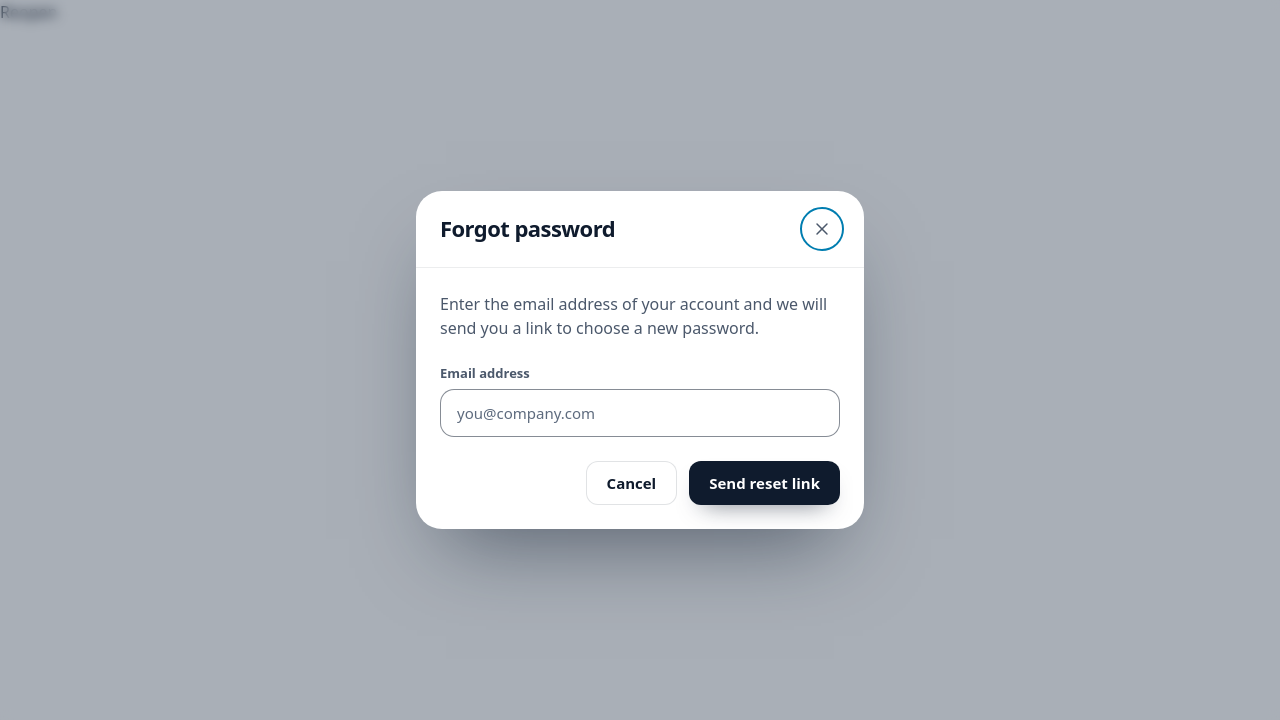
ForgotPasswordModal › refuses something that is not an email, in its own words
The width and height of the screenshot is (1280, 720).
Type "not-an-email" into the field labelled "Email address". click: (640, 413)
box: [440,389,840,437]
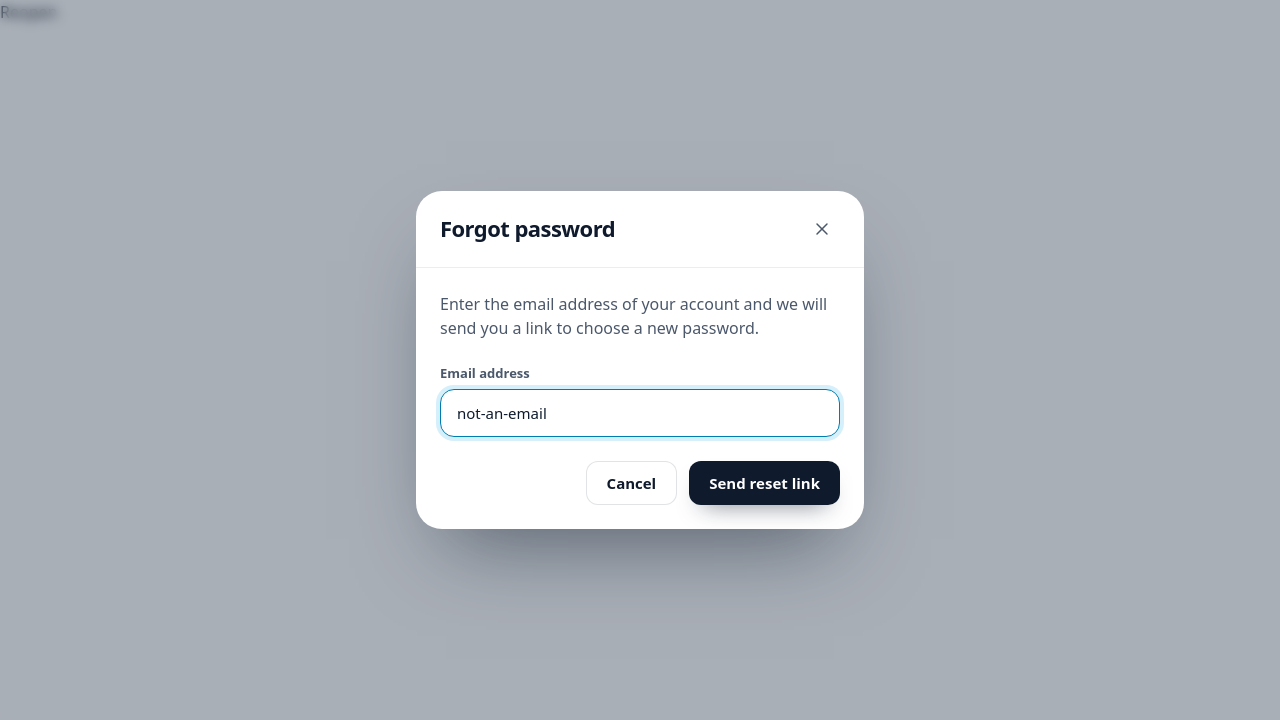
Click the button "Send reset link". click: click(765, 483)
box: [689,461,840,505]
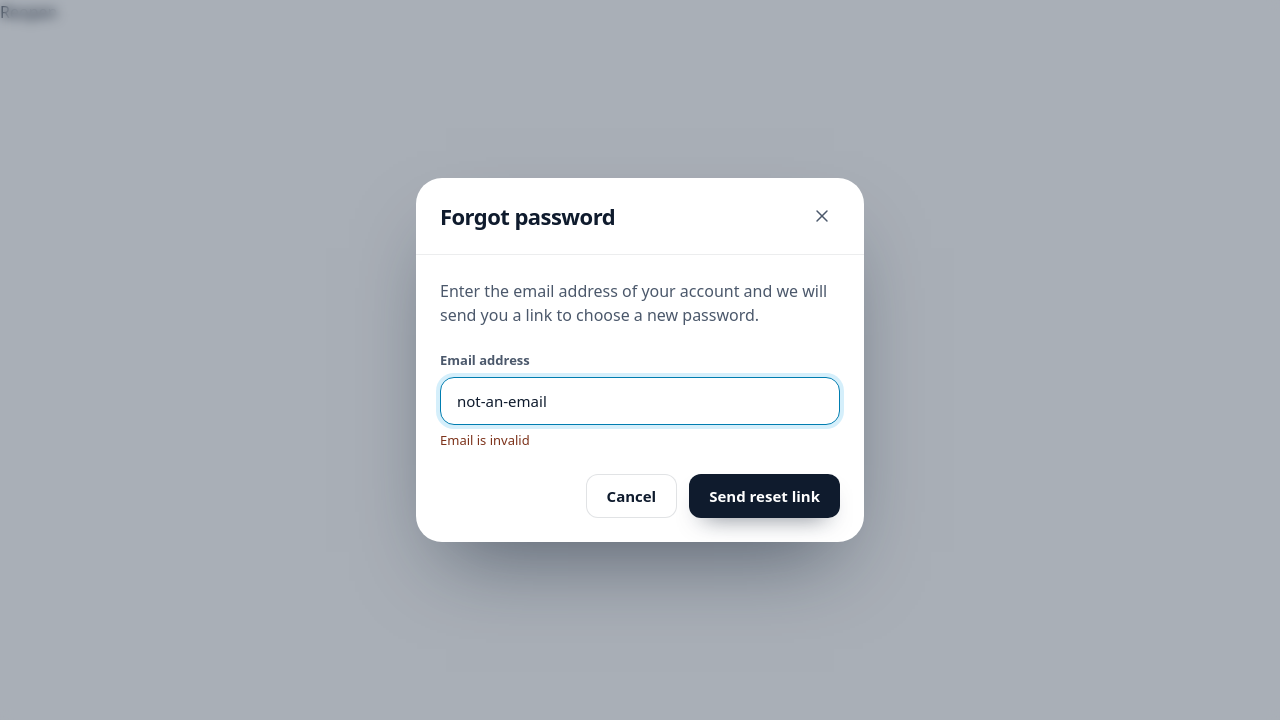
Now the text "Email is invalid" is shown, box [440,430,530,448]
